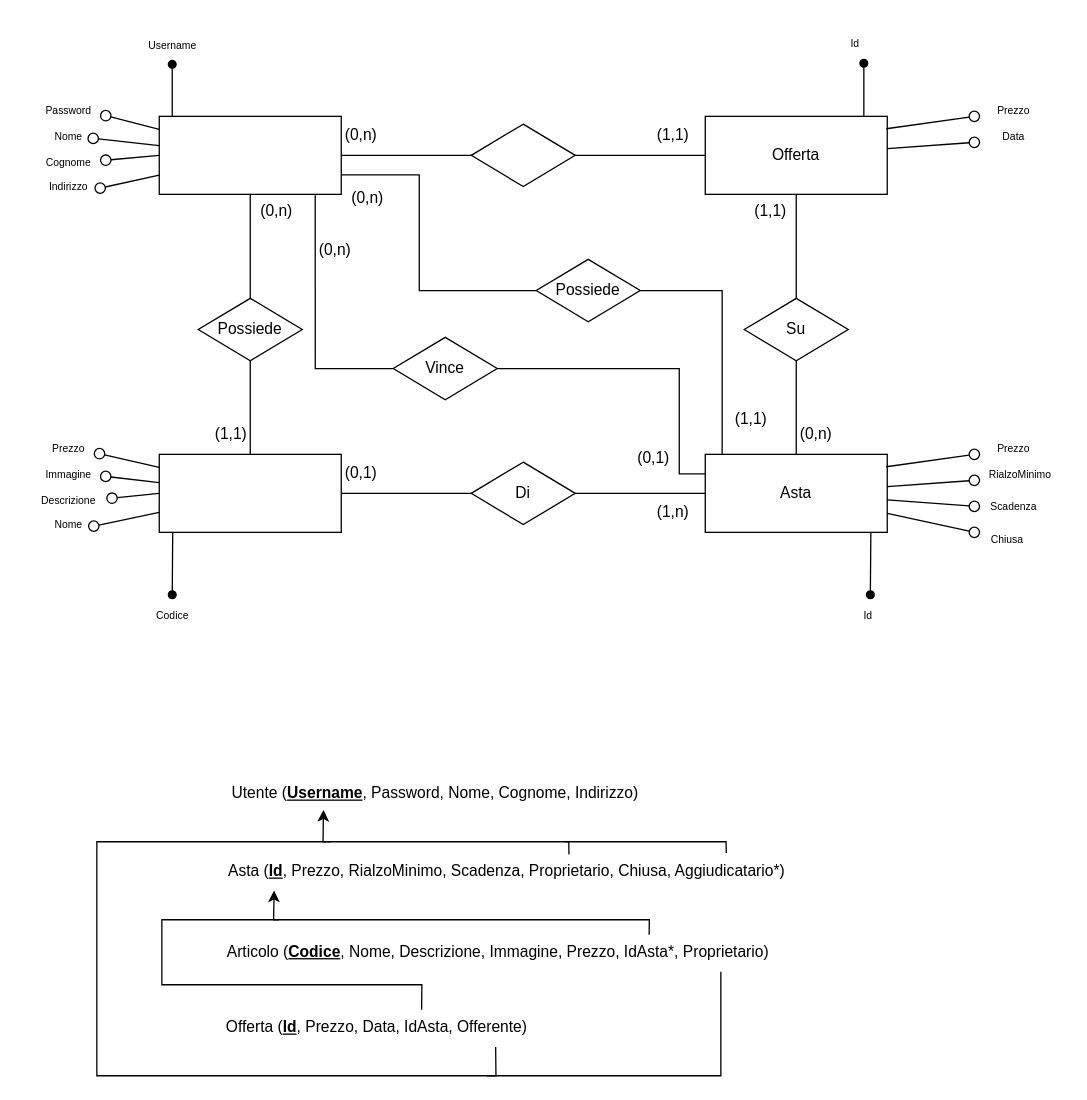
Some shapes in this 1087 by 1100 pixel diagram are drawn without their labels. The shapes that lost their labels are listed below. From the top down, each one's box as (x1, y1, x2, y2) in pixels, then its label:
(158, 115, 341, 194): Utente
(470, 123, 575, 187): Fa
(158, 453, 341, 532): Articolo
